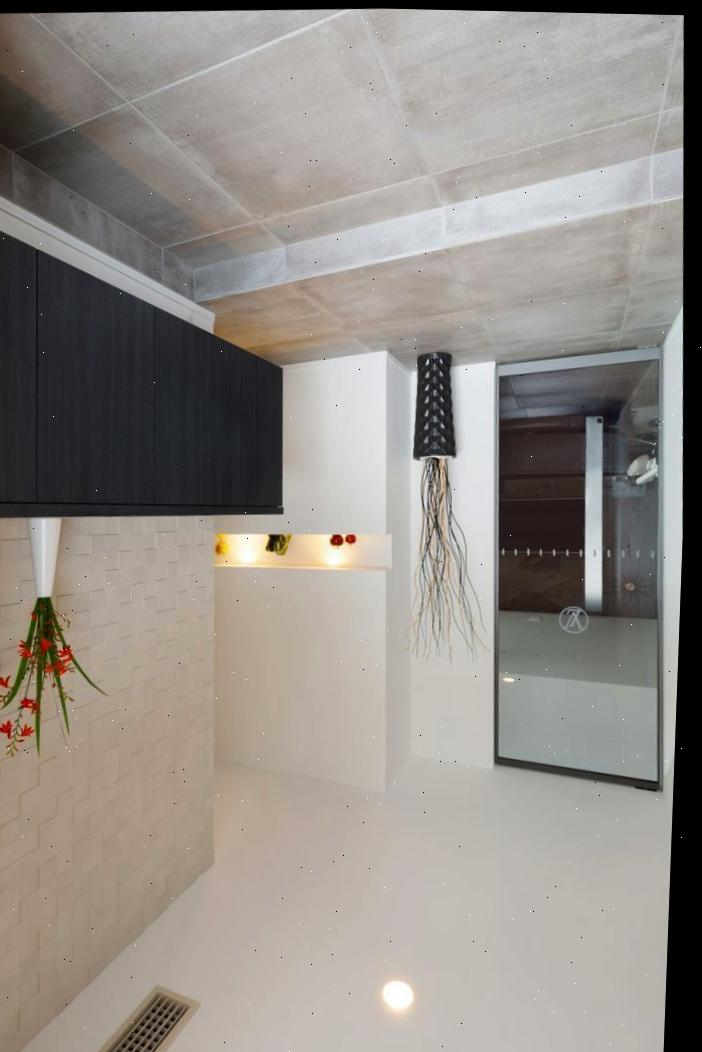floor: (0, 8, 684, 268)
safe: (194, 195, 683, 370)
